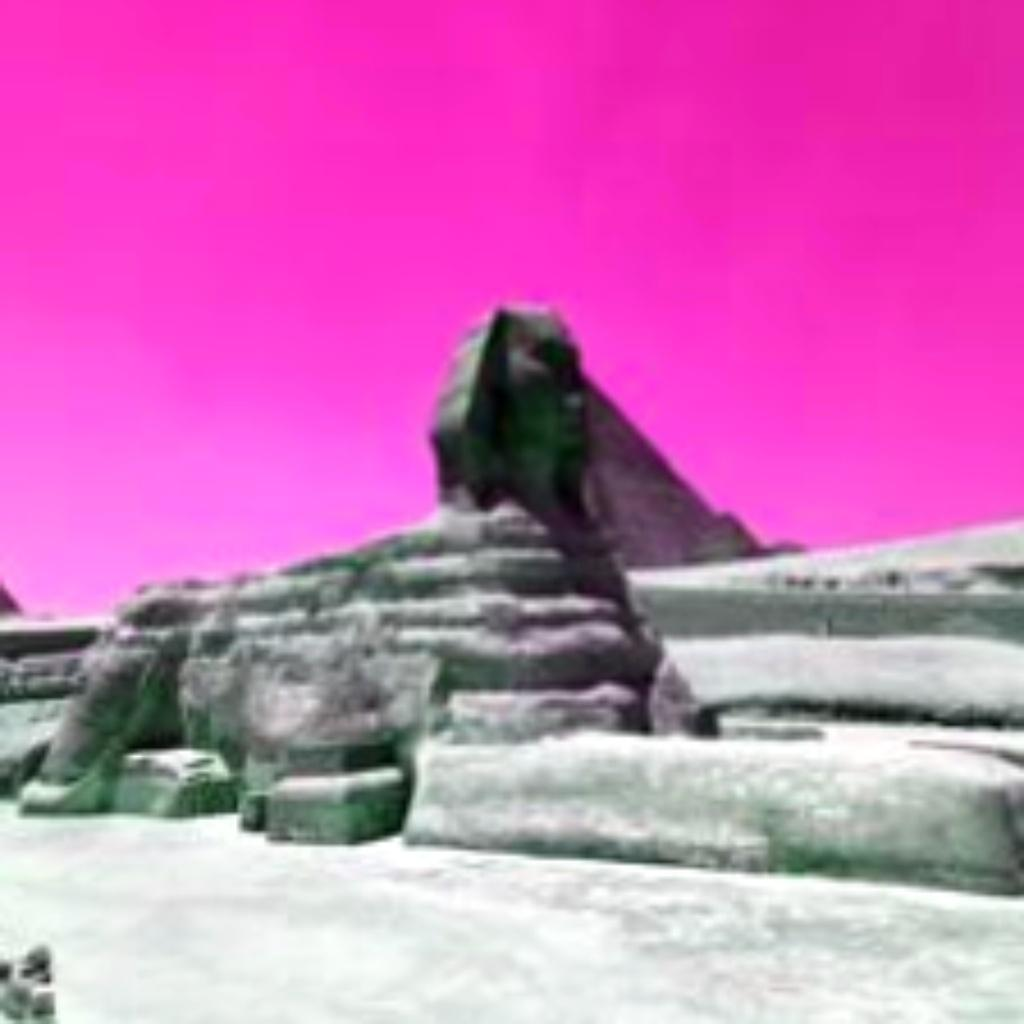Sphinx: (420, 288, 612, 581)
